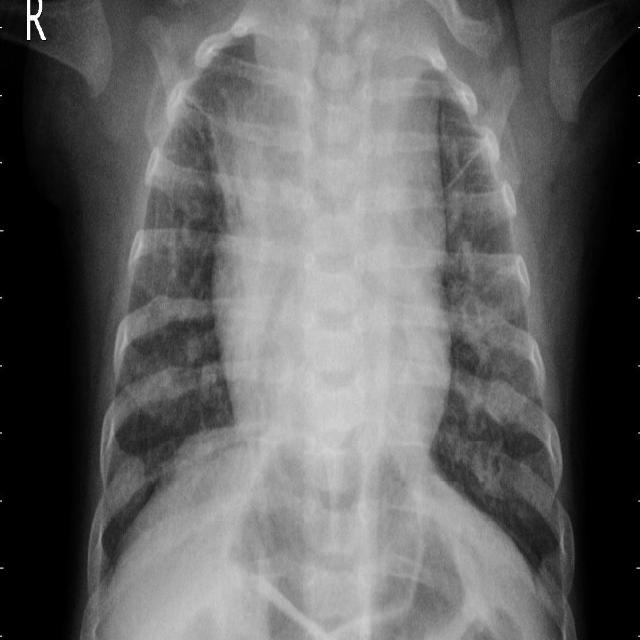low-pneumonia: (441, 170, 529, 406), (162, 58, 264, 235)
